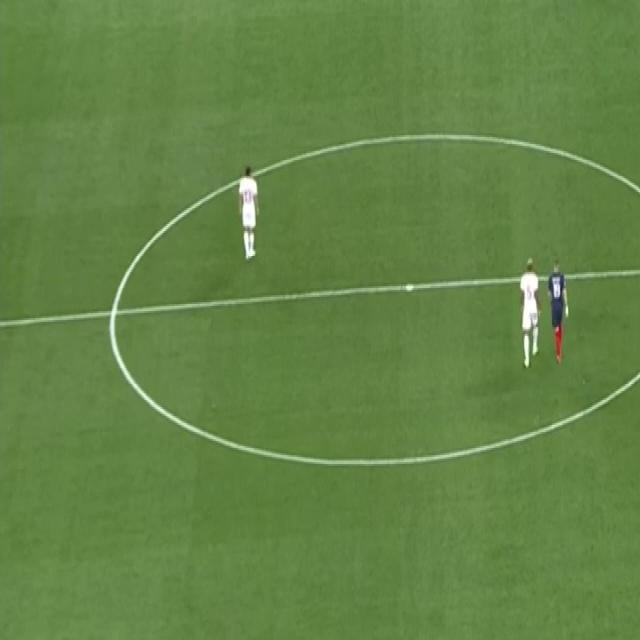player-white: (516, 250, 542, 371), (544, 253, 570, 368), (236, 162, 263, 266)
